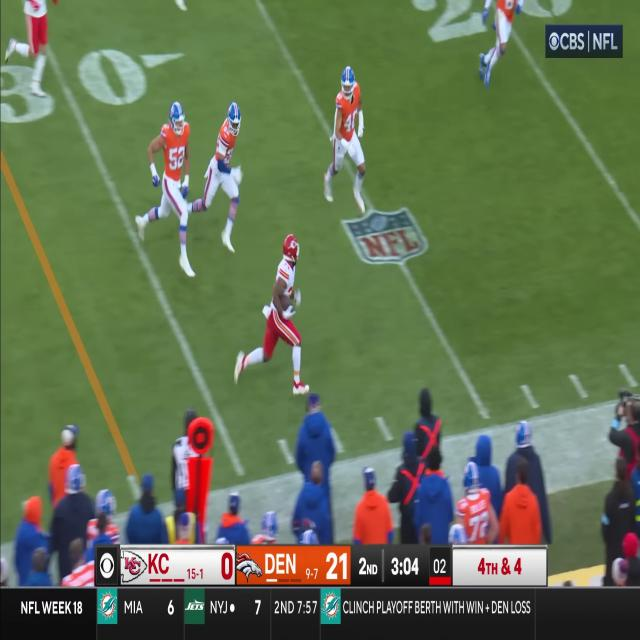Player: (135, 99, 197, 279), (255, 232, 308, 392), (188, 96, 242, 253), (325, 63, 367, 215)
